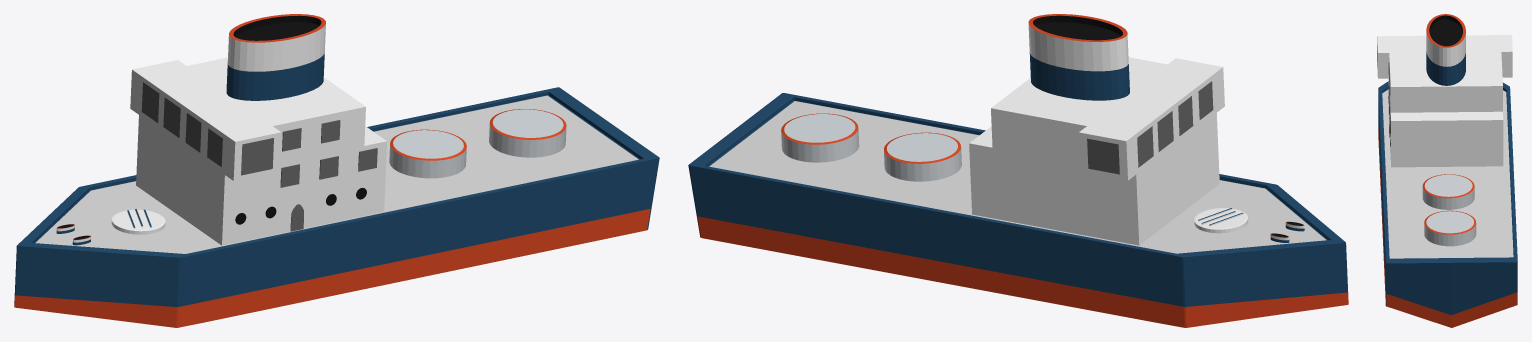
File: boat1.fbx
The picture shows the model from 3 angles, left to right: view 1: azimuth 30°, elevation 25°; view 2: azimuth 150°, elevation 25°; view 3: azimuth 270°, elevation 25°; orthographic projection. The views are drawn at different scales.
Visible parts, largest first — view 1: Cube.373; view 2: Cube.373; view 3: Cube.373.
Boxes of the visible parts, box(x1,y1,x2,y2) form: Cube.373: box(14, 14, 659, 327); Cube.373: box(688, 14, 1348, 327); Cube.373: box(1377, 14, 1517, 327).
Bounding box in the file's own units: 1444 × 650 × 431.
